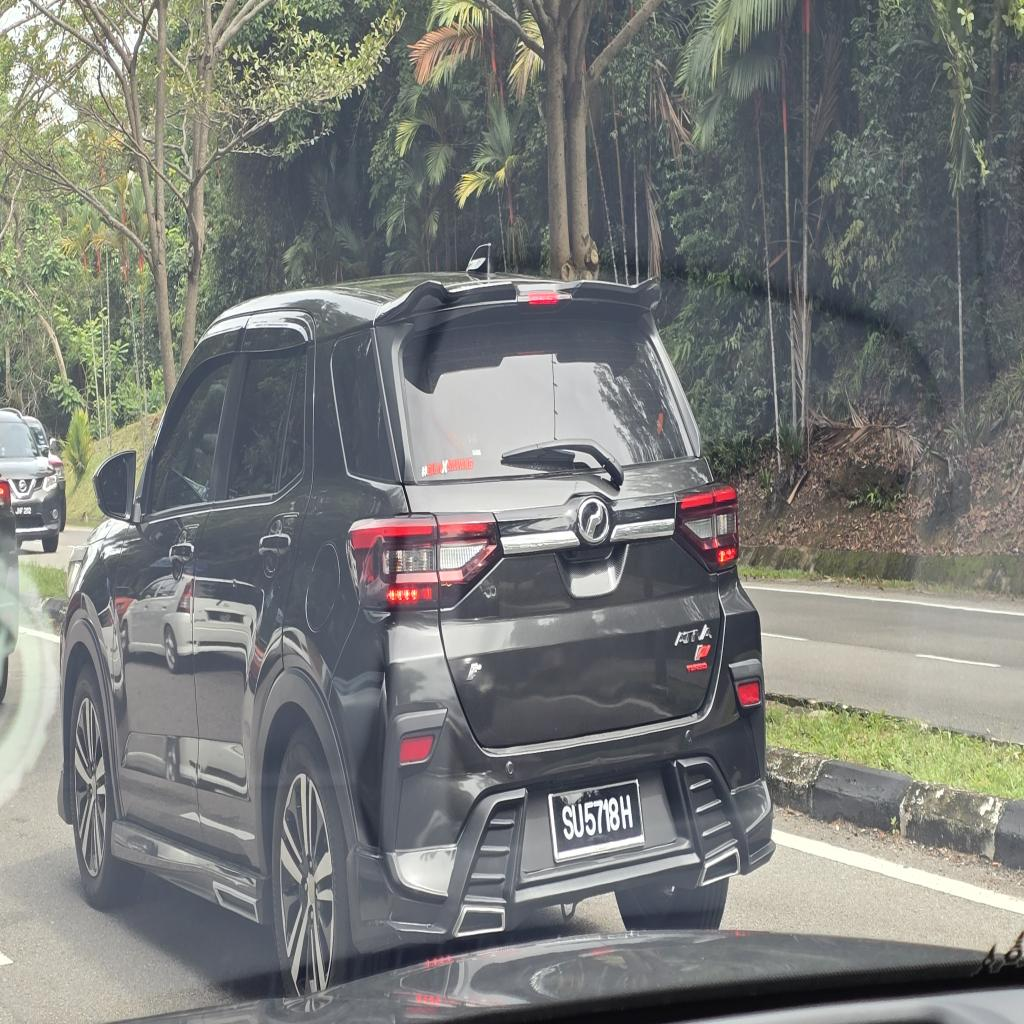car: (59, 274, 774, 993)
car plate: (549, 781, 644, 861)
